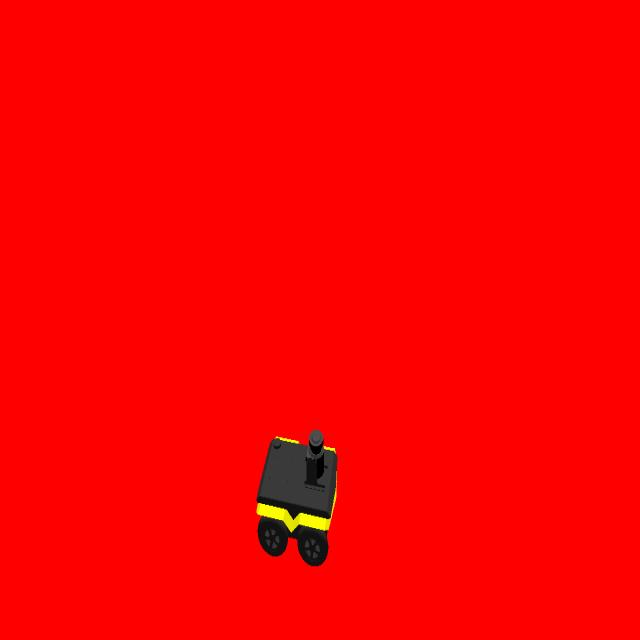jackal: (255, 426, 339, 568)
